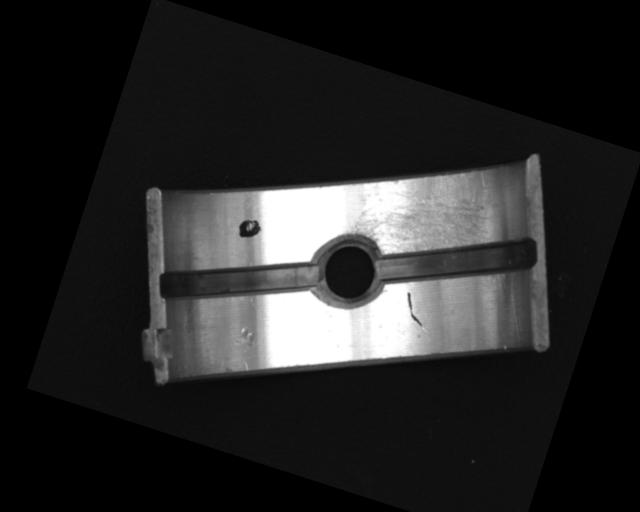blot: (235, 214, 264, 242)
bruise: (231, 323, 260, 353)
gap: (369, 196, 541, 324), (156, 220, 320, 338)
hole: (305, 227, 393, 314)
nick: (398, 289, 433, 328)
scratch: (341, 136, 507, 286)
